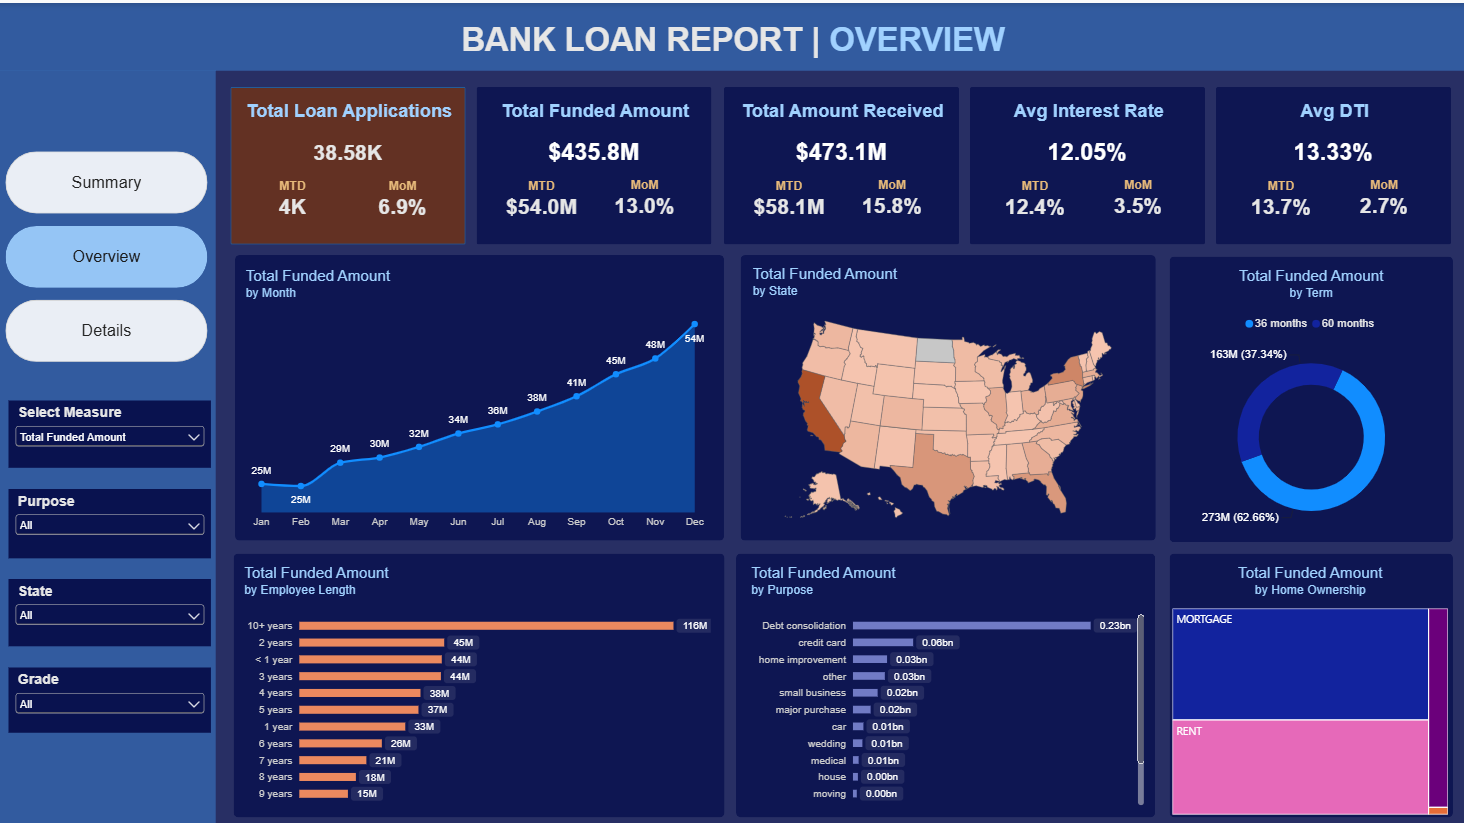

Layout of this report page (visuals, bound fields, positions):
{"tool":"powerbi","page":{"name":"Overview","canvas":[1920,1080],"ordinal":1},"visuals":[{"type":"shape","box":[0,0,1919.3,88.6],"z":0},{"type":"shape","box":[948,109,307.3,206],"z":0,"group":"g4"},{"type":"shape","box":[1270.2,109,307.3,206],"z":0,"group":"g5"},{"type":"shape","box":[1591.6,109,307.3,206],"z":0,"group":"g6"},{"type":"shape","box":[309.3,328.2,639.6,373.7],"z":0,"group":"g2"},{"type":"shape","box":[969.8,328.2,543,373.7],"z":0,"group":"g7"},{"type":"shape","box":[1531.2,331.2,370.7,373.7],"z":0,"group":"g8"},{"type":"shape","box":[1532,719.1,370.7,345.1],"z":0,"group":"g9"},{"type":"shape","box":[0,88.3,285,991.5],"z":1000},{"type":"cardVisual","fields":{"Data":["bank_loan.Total Amount Received"]},"box":[948,163.5,307.3,59.2],"z":1000,"group":"g4"},{"type":"cardVisual","fields":{"Data":["bank_loan.Avg Interest Rate"]},"box":[1270.2,163.5,307.3,59.2],"z":1000,"group":"g5"},{"type":"cardVisual","fields":{"Data":["bank_loan.Avg DTI"]},"box":[1591.6,163.5,307.3,59.2],"z":1000,"group":"g6"},{"type":"areaChart","fields":{"Category":["Date Table.Month"],"Y":["bank_loan.Total Funded Amount"]},"box":[307.6,329.9,639.6,373.7],"z":1000,"group":"g2"},{"type":"textbox","box":[472.4,22.7,976.7,65.9],"z":2000},{"type":"group","id":"g1","title":"Group 1","box":[625.9,109,307.3,206],"z":2000,"group":"g2"},{"type":"cardVisual","fields":{"Data":["bank_loan.MTD Total Amount Recieved"]},"box":[966.2,212.7,135.8,85.2],"z":2000,"group":"g4"},{"type":"cardVisual","fields":{"Data":["bank_loan.MTD Avg Int Rate"]},"box":[1288.4,212.7,135.8,85.2],"z":2000,"group":"g5"},{"type":"cardVisual","fields":{"Data":["bank_loan.MTD Avg DTI"]},"box":[1609.8,212.7,135.8,85.2],"z":2000,"group":"g6"},{"type":"shape","box":[303.7,109,307.3,206],"z":2500,"group":"g3"},{"type":"shape","box":[625.9,109,307.3,206],"z":2500,"group":"g1"},{"type":"group","id":"g2","title":"Group 3","box":[303.7,109,1599,955.3],"z":3000},{"type":"group","id":"g3","title":"Group 1","box":[303.7,109,307.3,206],"z":3000,"group":"g2"},{"type":"cardVisual","fields":{"Data":["bank_loan.Total Loan Applications"]},"box":[303.7,163.5,307.3,59.2],"z":3000,"group":"g3"},{"type":"cardVisual","fields":{"Data":["bank_loan.Total Funded Amount"]},"box":[625.9,163.5,307.3,59.2],"z":3000,"group":"g1"},{"type":"group","id":"g4","title":"Group 1","box":[948,109,307.3,206],"z":4000,"group":"g2"},{"type":"cardVisual","fields":{"Data":["bank_loan.MTD Funded Amount"]},"box":[644.1,212.7,135.8,85.2],"z":4000,"group":"g1"},{"type":"cardVisual","fields":{"Data":["bank_loan.MoM Total Amount Recieved"]},"box":[1104.3,212.7,126.2,85.2],"z":4000,"group":"g4"},{"type":"cardVisual","fields":{"Data":["bank_loan.MoM Avg Int Rate"]},"box":[1426.5,212.7,126.2,85.2],"z":4000,"group":"g5"},{"type":"cardVisual","fields":{"Data":["bank_loan.MoM Avg DTI"]},"box":[1747.9,212.7,126.2,85.2],"z":4000,"group":"g6"},{"type":"cardVisual","fields":{"Data":["bank_loan.MTD Loan Applications"]},"box":[322.8,213.2,123.9,85.2],"z":4000,"group":"g3"},{"type":"group","id":"g5","title":"Group 1","box":[1270.2,109,307.3,206],"z":5000,"group":"g2"},{"type":"textbox","box":[968.5,127.4,271.6,45],"z":5000,"group":"g4"},{"type":"textbox","box":[1290.7,127.4,271.6,45],"z":5000,"group":"g5"},{"type":"textbox","box":[1612.1,127.4,271.6,45],"z":5000,"group":"g6"},{"type":"pageNavigator","box":[10.4,194.7,264.8,277.8],"z":5000},{"type":"group","id":"g6","title":"Group 1","box":[1591.6,109,307.3,206],"z":6000,"group":"g2"},{"type":"cardVisual","fields":{"Data":["bank_loan.MoM Total Funded Amount"]},"box":[782.2,212.7,126.2,85.2],"z":6000,"group":"g1"},{"type":"cardVisual","fields":{"Data":["bank_loan.MoM Loan Applications"]},"box":[475.2,213.2,109.6,85.2],"z":6000,"group":"g3"},{"type":"textbox","box":[324.2,127.4,271.6,45],"z":7000,"group":"g3"},{"type":"textbox","box":[646.4,127.4,271.6,45],"z":7000,"group":"g1"},{"type":"group","id":"g7","title":"Group 2","box":[969.8,328.2,543,373.7],"z":7000,"group":"g2"},{"type":"shapeMap","fields":{"Category":["bank_loan.address_state"],"Value":["bank_loan.Total Funded Amount"]},"box":[969.8,328.2,543,373.7],"z":8000,"group":"g2"},{"type":"group","id":"g8","title":"Group 2","box":[1531.2,331.2,370.7,373.7],"z":9000,"group":"g2"},{"type":"donutChart","fields":{"Category":["bank_loan.term"],"Y":["bank_loan.Total Funded Amount"]},"box":[1532,329.9,370.7,373.7],"z":10000,"group":"g2"},{"type":"slicer","fields":{"Values":["bank_loan.grade"]},"box":[13,869.6,264.8,85.7],"z":10000},{"type":"shape","box":[307.6,719.1,642.2,345.1],"z":11000,"group":"g2"},{"type":"slicer","fields":{"Values":["bank_loan.address_state"]},"box":[13,753.6,264.8,88.3],"z":11000},{"type":"slicer","fields":{"Values":["bank_loan.purpose"]},"box":[13,635.1,264.8,90.9],"z":12000},{"type":"clusteredBarChart","fields":{"Category":["bank_loan.emp_length"],"Y":["bank_loan.Total Funded Amount"]},"box":[305,719.1,642.2,345.1],"z":12000,"group":"g2"},{"type":"slicer","fields":{"Values":["Select Measure.Select Measure"]},"box":[13,519.2,264.8,88.3],"z":13000},{"type":"shape","box":[965.5,719.1,548.2,345.1],"z":13000,"group":"g2"},{"type":"clusteredBarChart","fields":{"Category":["bank_loan.purpose"],"Y":["bank_loan.Total Funded Amount"]},"box":[968.1,719.1,545.6,345.1],"z":14000,"group":"g2"},{"type":"group","id":"g9","title":"Group 2","box":[1532,719.1,370.7,345.1],"z":15000,"group":"g2"},{"type":"treemap","fields":{"Group":["bank_loan.home_ownership"],"Values":["bank_loan.Total Funded Amount"]},"box":[1532,719.1,368.1,345.1],"z":16000,"group":"g2"}]}

Visuals, with their boxes in screenshot pixels (x1, y1, x2, y2), scaled from the page's 1920x1080 canvas onto the 1464x823 screenshot:
shape: select_region(0, 0, 1463, 68)
shape: select_region(723, 83, 957, 240)
shape: select_region(969, 83, 1203, 240)
shape: select_region(1214, 83, 1448, 240)
shape: select_region(236, 250, 724, 535)
shape: select_region(739, 250, 1154, 535)
shape: select_region(1168, 252, 1450, 537)
shape: select_region(1168, 548, 1451, 811)
shape: select_region(0, 67, 217, 822)
cardVisual - bank_loan.Total Amount Received: select_region(723, 125, 957, 170)
cardVisual - bank_loan.Avg Interest Rate: select_region(969, 125, 1203, 170)
cardVisual - bank_loan.Avg DTI: select_region(1214, 125, 1448, 170)
areaChart - Date Table.Month x bank_loan.Total Funded Amount: select_region(235, 251, 722, 536)
textbox: select_region(360, 17, 1105, 68)
"Group 1" group: select_region(477, 83, 712, 240)
cardVisual - bank_loan.MTD Total Amount Recieved: select_region(737, 162, 840, 227)
cardVisual - bank_loan.MTD Avg Int Rate: select_region(982, 162, 1086, 227)
cardVisual - bank_loan.MTD Avg DTI: select_region(1227, 162, 1331, 227)
shape: select_region(232, 83, 466, 240)
shape: select_region(477, 83, 712, 240)
"Group 3" group: select_region(232, 83, 1451, 811)
"Group 1" group: select_region(232, 83, 466, 240)
cardVisual - bank_loan.Total Loan Applications: select_region(232, 125, 466, 170)
cardVisual - bank_loan.Total Funded Amount: select_region(477, 125, 712, 170)
"Group 1" group: select_region(723, 83, 957, 240)
cardVisual - bank_loan.MTD Funded Amount: select_region(491, 162, 595, 227)
cardVisual - bank_loan.MoM Total Amount Recieved: select_region(842, 162, 938, 227)
cardVisual - bank_loan.MoM Avg Int Rate: select_region(1088, 162, 1184, 227)
cardVisual - bank_loan.MoM Avg DTI: select_region(1333, 162, 1429, 227)
cardVisual - bank_loan.MTD Loan Applications: select_region(246, 162, 341, 227)
"Group 1" group: select_region(969, 83, 1203, 240)
textbox: select_region(738, 97, 946, 131)
textbox: select_region(984, 97, 1191, 131)
textbox: select_region(1229, 97, 1436, 131)
pageNavigator: select_region(8, 148, 210, 360)
"Group 1" group: select_region(1214, 83, 1448, 240)
cardVisual - bank_loan.MoM Total Funded Amount: select_region(596, 162, 693, 227)
cardVisual - bank_loan.MoM Loan Applications: select_region(362, 162, 446, 227)
textbox: select_region(247, 97, 454, 131)
textbox: select_region(493, 97, 700, 131)
"Group 2" group: select_region(739, 250, 1154, 535)
shapeMap - bank_loan.address_state x bank_loan.Total Funded Amount: select_region(739, 250, 1154, 535)
"Group 2" group: select_region(1168, 252, 1450, 537)
donutChart - bank_loan.term x bank_loan.Total Funded Amount: select_region(1168, 251, 1451, 536)
slicer - bank_loan.grade: select_region(10, 663, 212, 728)
shape: select_region(235, 548, 724, 811)
slicer - bank_loan.address_state: select_region(10, 574, 212, 642)
slicer - bank_loan.purpose: select_region(10, 484, 212, 553)
clusteredBarChart - bank_loan.emp_length x bank_loan.Total Funded Amount: select_region(233, 548, 722, 811)
slicer - Select Measure.Select Measure: select_region(10, 396, 212, 463)
shape: select_region(736, 548, 1154, 811)
clusteredBarChart - bank_loan.purpose x bank_loan.Total Funded Amount: select_region(738, 548, 1154, 811)
"Group 2" group: select_region(1168, 548, 1451, 811)
treemap - bank_loan.home_ownership x bank_loan.Total Funded Amount: select_region(1168, 548, 1449, 811)
